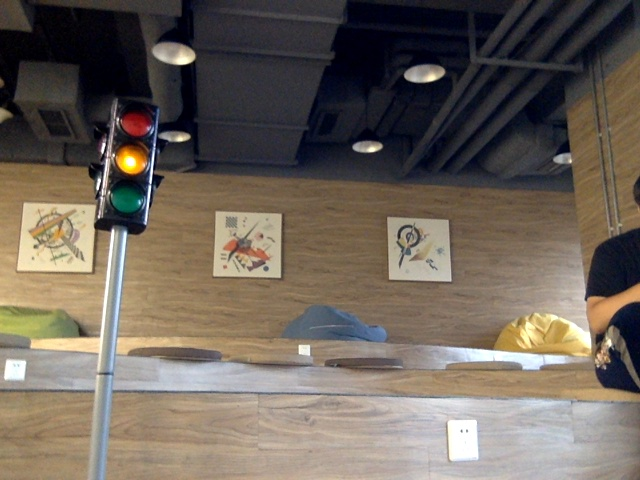yellow: (107, 103, 149, 221)
